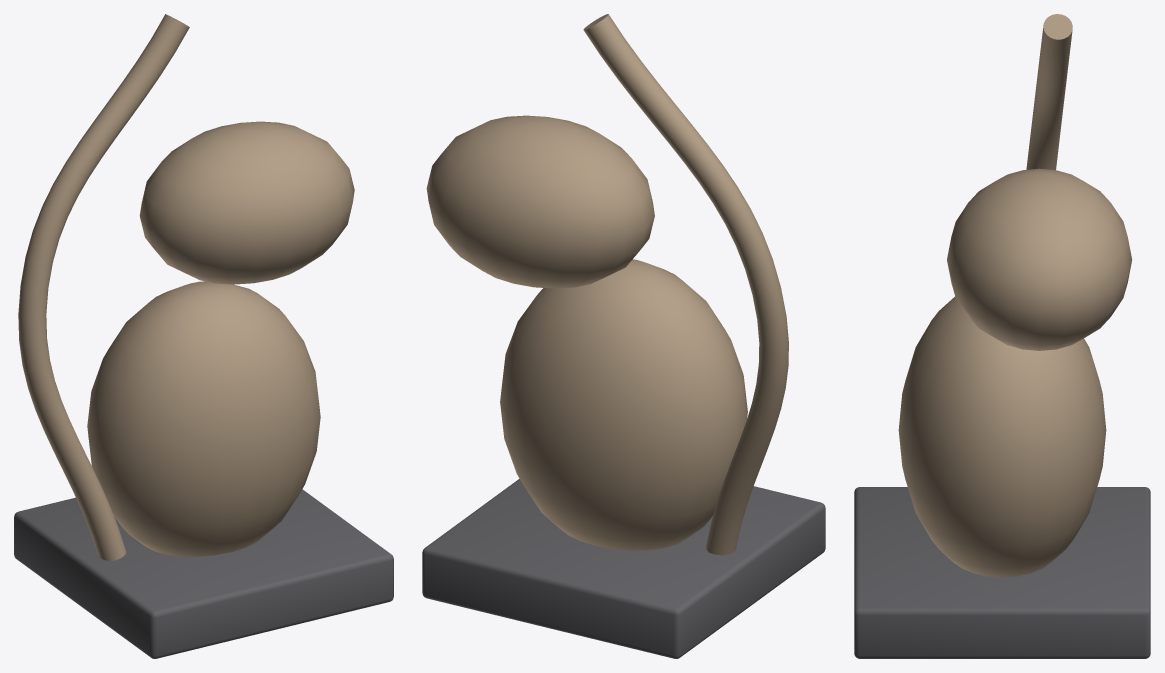
The model's file is it_sculpture.glb.
3 views of the same model, side by side, from view 1: azimuth 30°, elevation 25°; view 2: azimuth 150°, elevation 25°; view 3: azimuth 270°, elevation 25° (orthographic). The views are drawn at different scales.
Visible parts, largest first — view 1: s1, base, s2, arc; view 2: s1, base, s2, arc; view 3: s1, base, s2, arc.
Boxes of the visible parts, bbox=[...] form: s1: bbox=[87, 281, 320, 556]; base: bbox=[14, 489, 393, 658]; s2: bbox=[139, 121, 354, 284]; arc: bbox=[18, 14, 189, 560]; s1: bbox=[500, 259, 747, 550]; base: bbox=[422, 479, 825, 658]; s2: bbox=[426, 115, 654, 288]; arc: bbox=[583, 14, 788, 555]; s1: bbox=[898, 296, 1106, 577]; base: bbox=[854, 487, 1150, 658]; s2: bbox=[947, 168, 1132, 350]; arc: bbox=[1026, 14, 1072, 169].
Bounding box in the file's own units: 0.2156 × 0.3447 × 0.16.
